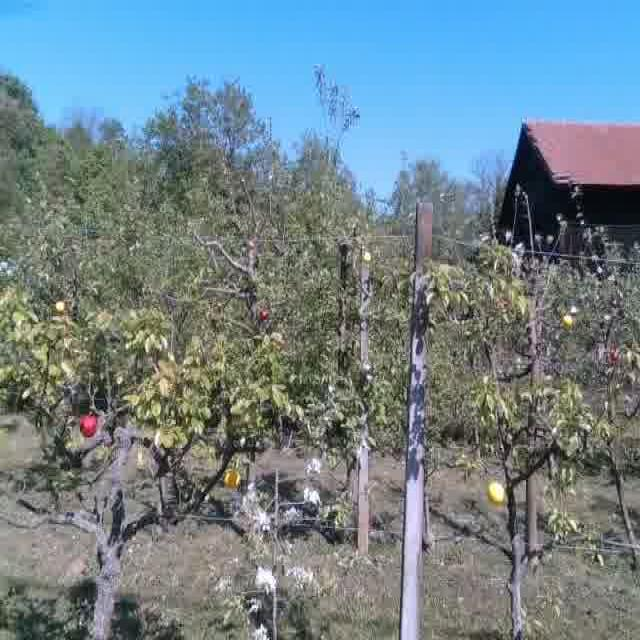red: (78, 408, 100, 438), (255, 303, 272, 324), (604, 347, 622, 365)
yellow: (486, 478, 507, 509), (226, 462, 245, 496), (559, 312, 575, 331), (53, 300, 66, 314)
